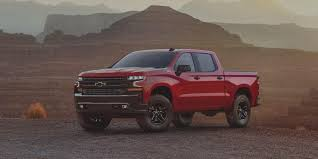car: (73, 48, 262, 133)
